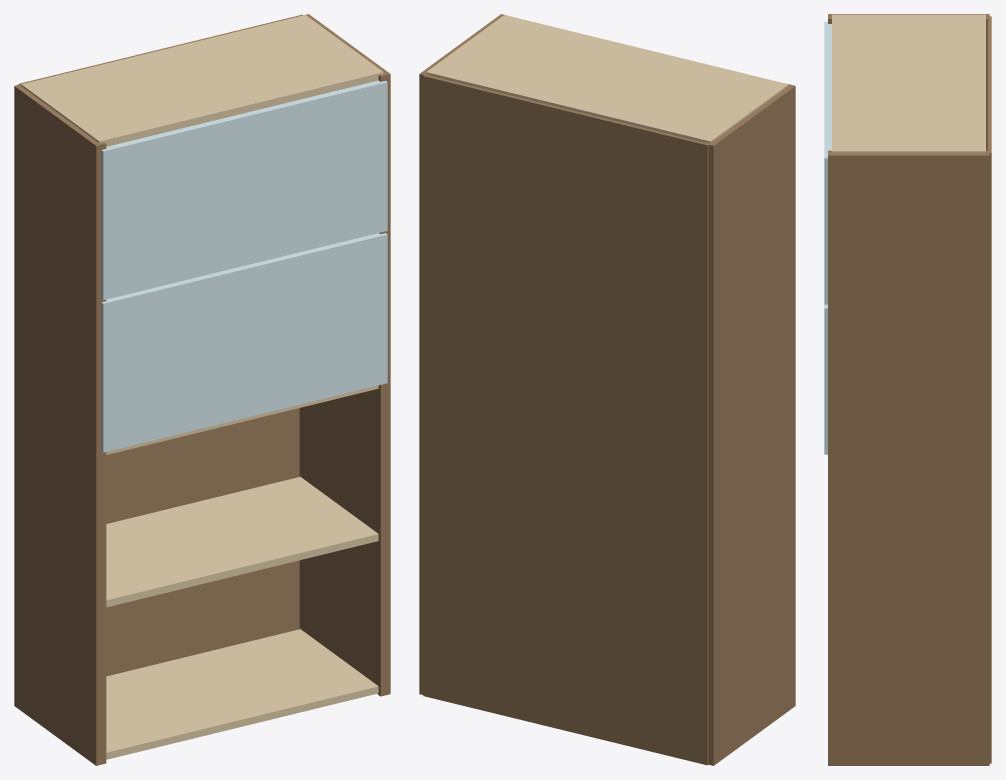
Rendered from dish_cabinet.glb.
3 renders of one model, left to right at view 1: azimuth 30°, elevation 25°; view 2: azimuth 150°, elevation 25°; view 3: azimuth 270°, elevation 25°, orthographic.
Parts seen in each view (by area): view 1: glass_doors, sides, shelves, back; view 2: back, sides, shelves; view 3: sides, shelves, back, glass_doors.
Part boxes in pixels (x1,y1,x2,y2): glass_doors: [101, 80, 387, 452]; sides: [14, 14, 390, 765]; shelves: [21, 15, 383, 759]; back: [18, 14, 303, 676]; back: [423, 75, 708, 765]; sides: [419, 14, 795, 765]; shelves: [426, 15, 788, 143]; sides: [828, 14, 989, 765]; shelves: [832, 14, 985, 152]; back: [988, 16, 991, 763]; glass_doors: [824, 21, 831, 454].
Bounding box in the file's own units: 0.87 × 1.75 × 0.435.
